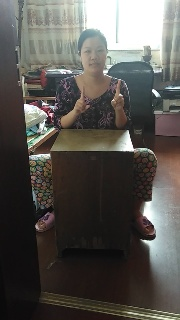hand: (73, 86, 89, 115), (110, 79, 124, 110)
